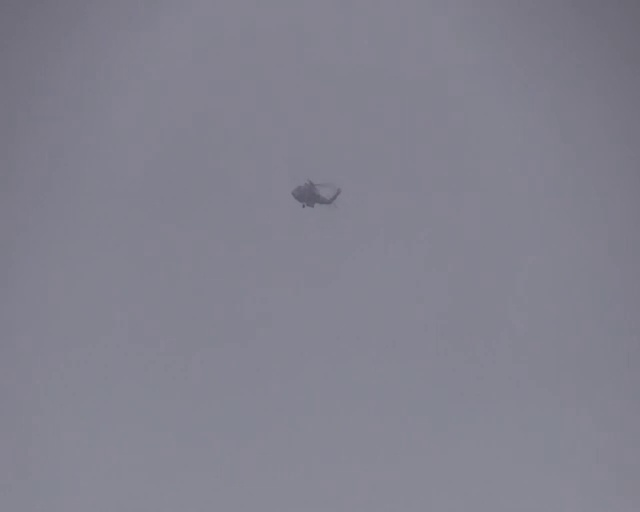HELICOPTER: (292, 177, 341, 209)
